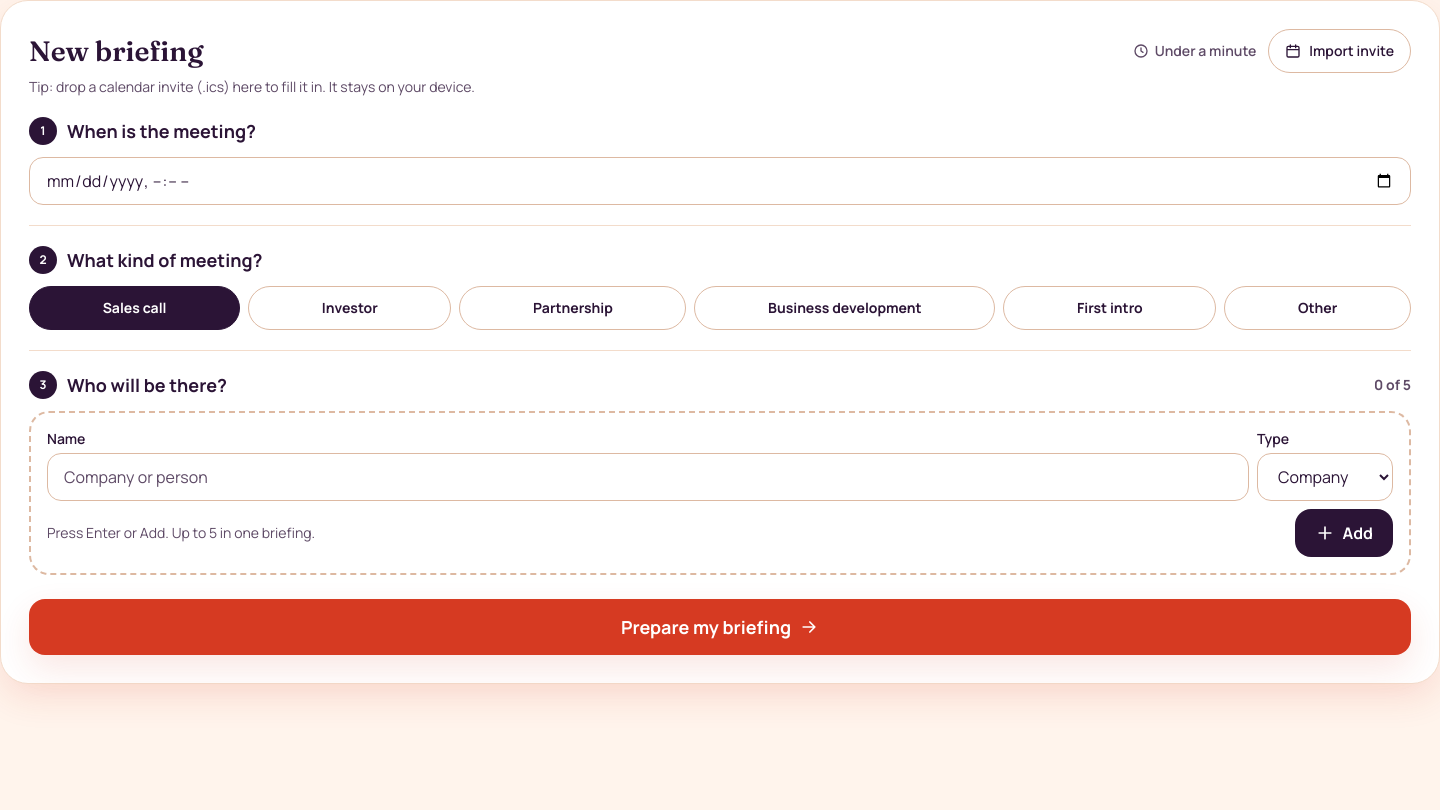
Test: BriefingForm › explains what is missing on submit instead of disabling the button
The image size is (1440, 810).
Click the button "Prepare my briefing" at point(720, 627), box [29,599,1411,655]
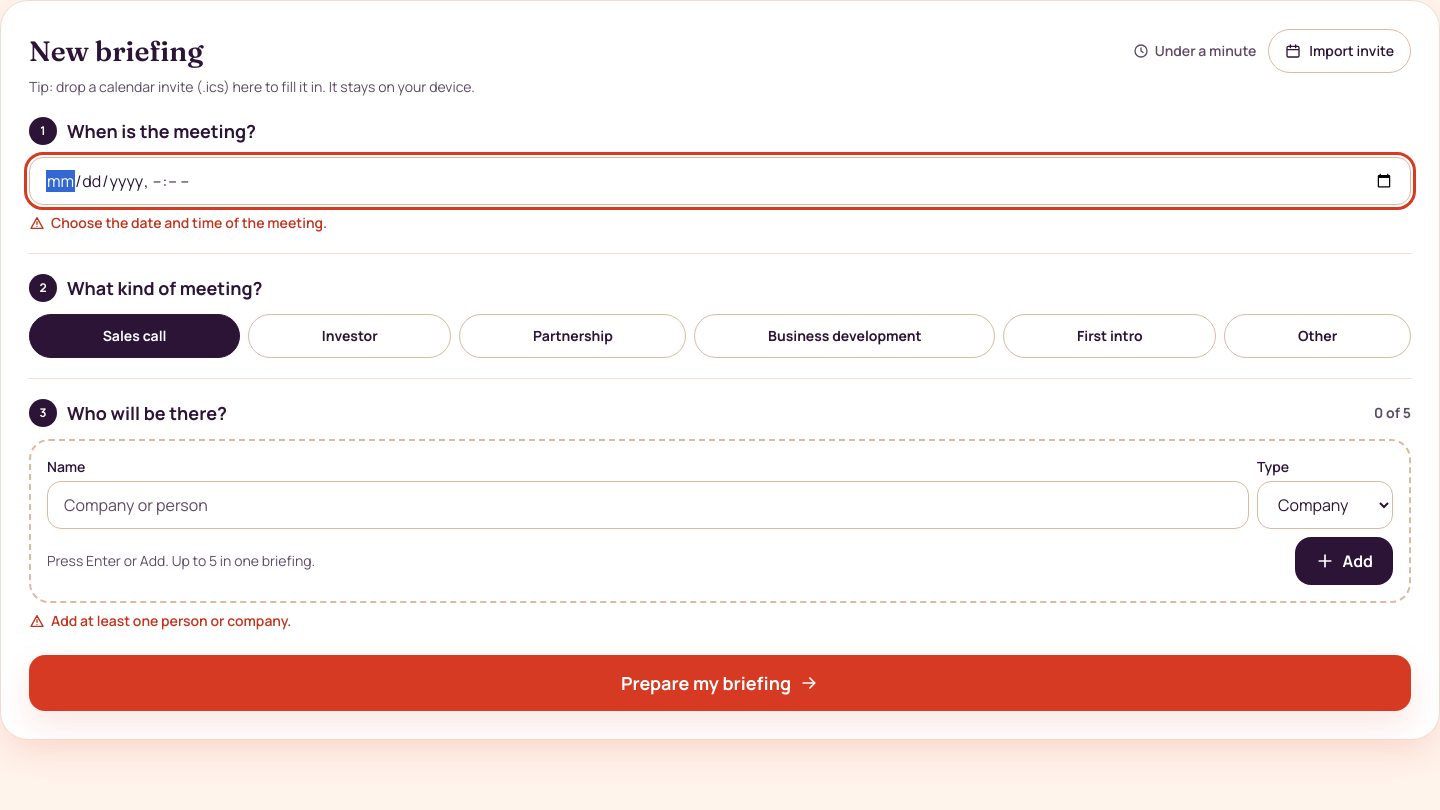
Expected: the text "Add at least one person or company." is shown, [29,611,291,630]
Expected: the text "Choose the date and time of the meeting." is shown, [29,213,327,232]
